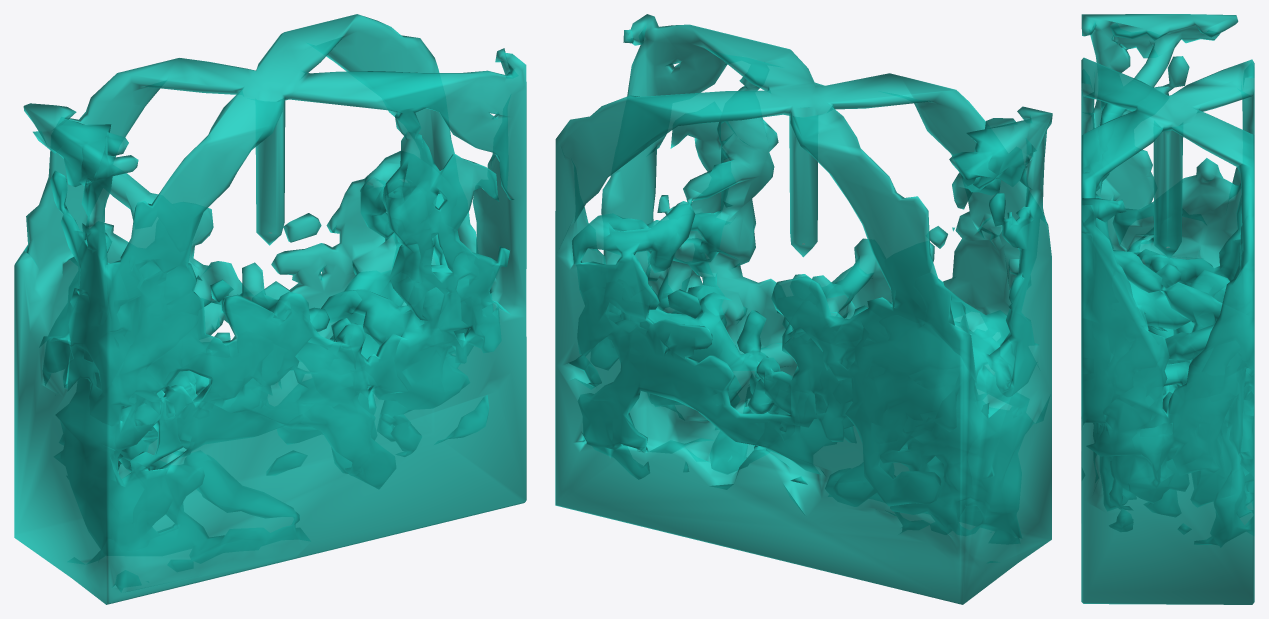
3 renders of one model, left to right at view 1: azimuth 30°, elevation 25°; view 2: azimuth 150°, elevation 25°; view 3: azimuth 270°, elevation 25°, orthographic. The views are drawn at different scales.
Visible parts, largest first — view 1: Liquid_Domain; view 2: Liquid_Domain; view 3: Liquid_Domain.
Boxes of the visible parts, x1,y1,x2,y2 form: Liquid_Domain: [14, 14, 526, 604]; Liquid_Domain: [555, 14, 1052, 604]; Liquid_Domain: [1081, 14, 1254, 604].
Bounding box in the file's own units: 884 × 885 × 344.
